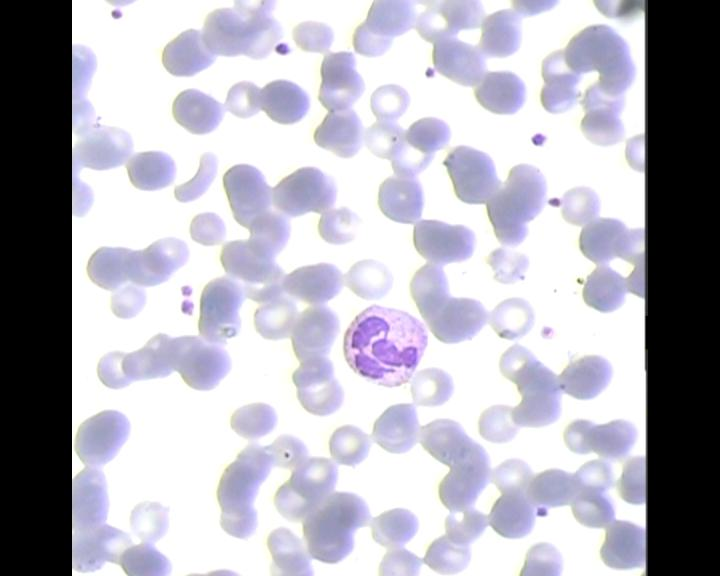neut: (336, 305, 427, 389)
